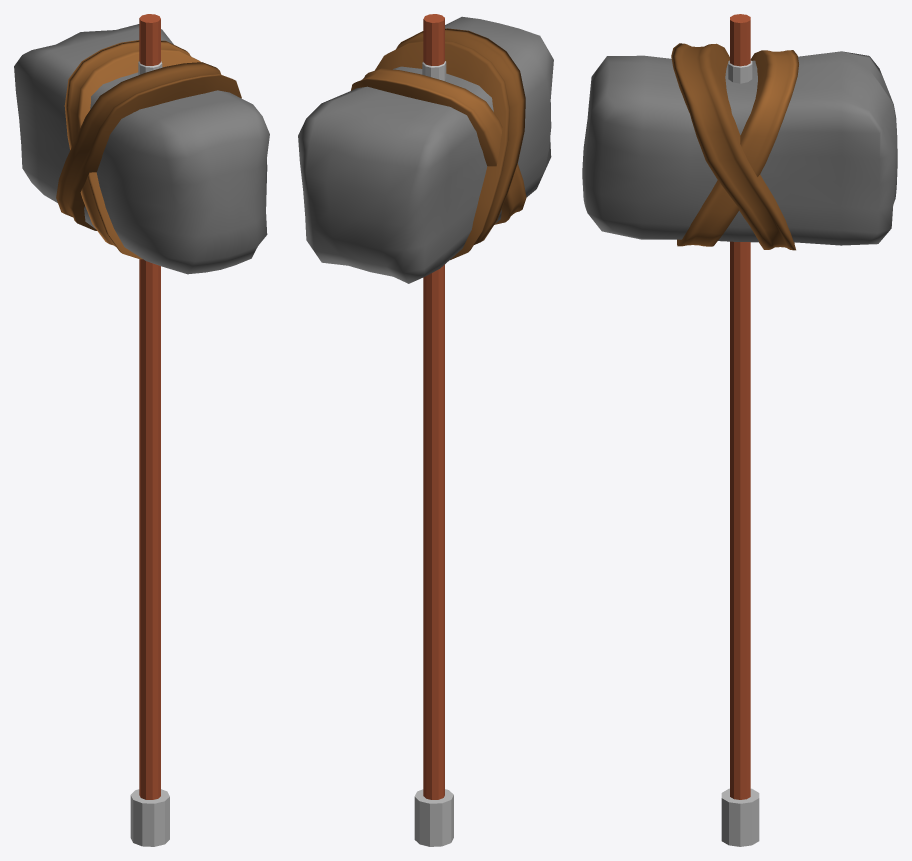
The model's file is bighammer.fbx.
3 renders of one model, left to right at view 1: azimuth 30°, elevation 25°; view 2: azimuth 150°, elevation 25°; view 3: azimuth 270°, elevation 25°, orthographic.
Parts seen in each view (by area): view 1: big_hammer; view 2: big_hammer; view 3: big_hammer.
Part boxes in pixels (x1,y1,x2,y2): big_hammer: (14,14,269,846); big_hammer: (298,14,553,846); big_hammer: (582,14,897,846).
Bounding box in the file's own units: 0.26 × 1.35 × 0.4726.
